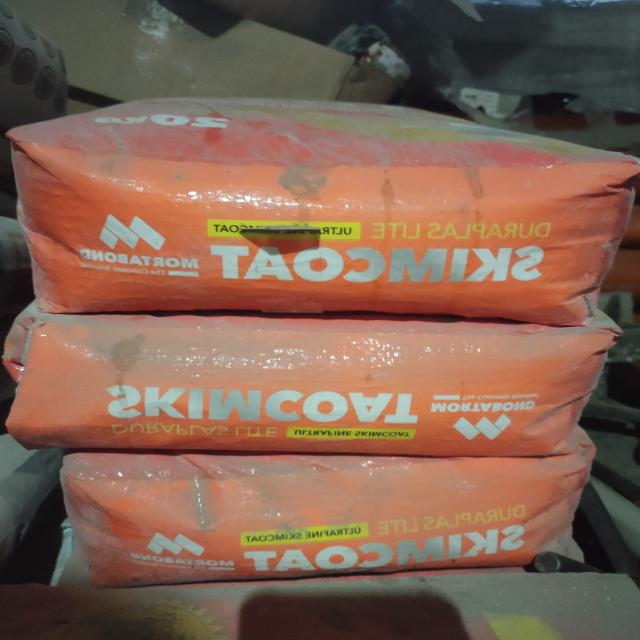Skim coat: (30, 149, 632, 303), (28, 303, 603, 449), (73, 439, 589, 571)
